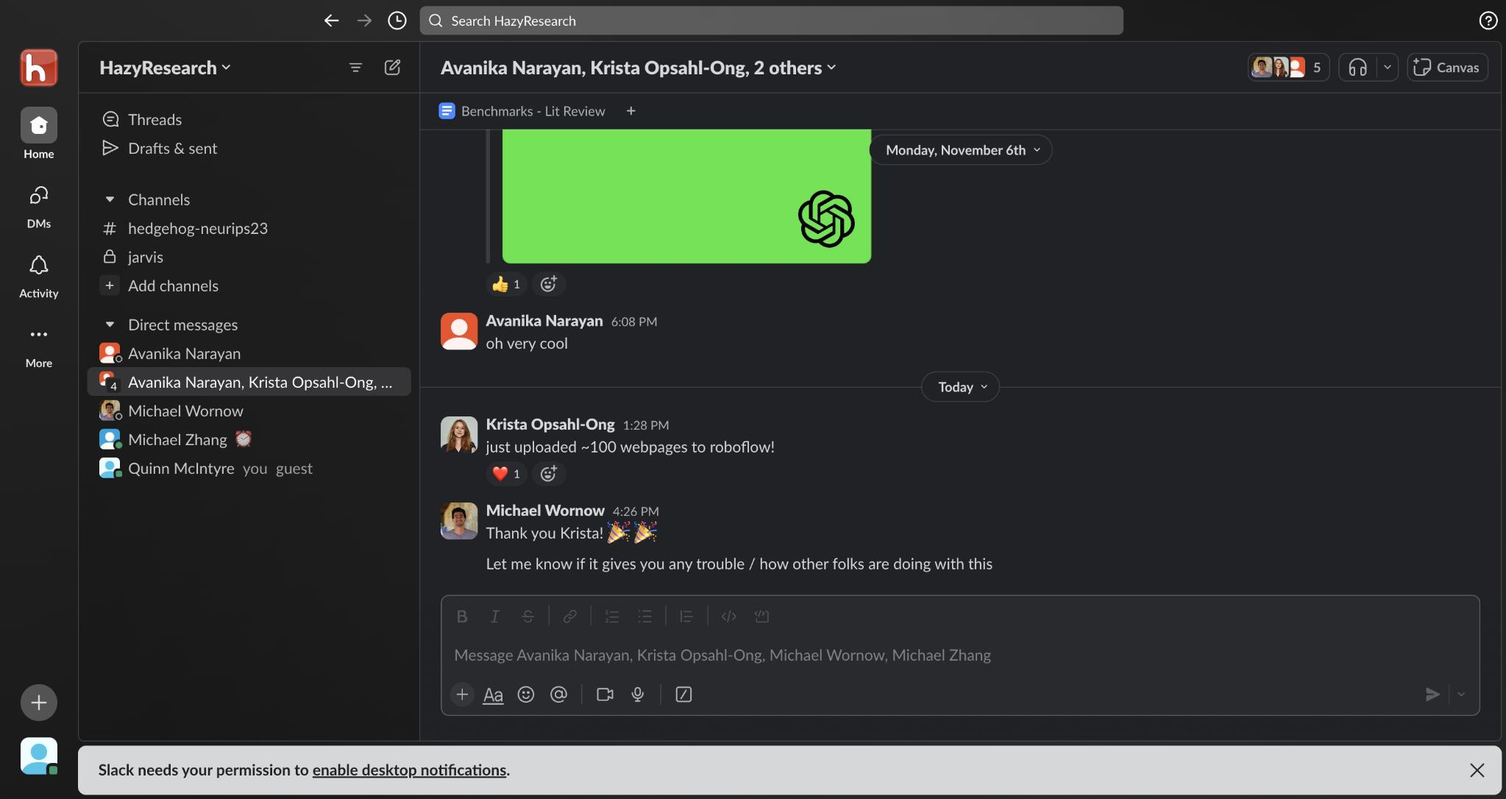webelement: (420, 41, 1500, 739), (420, 357, 1500, 602), (78, 91, 418, 530), (440, 594, 1480, 714), (420, 407, 1500, 493), (420, 494, 1500, 578), (502, 69, 871, 262), (77, 745, 1502, 794), (0, 0, 1505, 40), (420, 304, 1500, 357), (420, 41, 1500, 91), (420, 367, 1500, 407), (441, 673, 1479, 713), (441, 595, 1479, 633), (441, 634, 1479, 672), (486, 271, 1480, 300), (486, 460, 1480, 489), (501, 21, 1088, 61), (419, 5, 1122, 33), (78, 41, 418, 91), (12, 97, 65, 376), (432, 52, 844, 82), (78, 103, 418, 132), (78, 132, 418, 161), (78, 212, 418, 241), (78, 241, 418, 270), (78, 337, 418, 366), (78, 423, 418, 452), (420, 120, 1500, 129), (420, 357, 1500, 366), (78, 184, 418, 212), (78, 309, 418, 337), (78, 395, 418, 423), (86, 270, 410, 298), (0, 683, 77, 798), (486, 543, 1480, 551), (127, 366, 399, 395), (415, 41, 423, 739), (127, 452, 311, 481), (869, 134, 1051, 163), (91, 52, 243, 82), (312, 757, 506, 779), (127, 212, 267, 241), (1488, 133, 1496, 594), (12, 98, 65, 167), (12, 168, 65, 237), (12, 237, 65, 306), (12, 307, 65, 376), (590, 56, 745, 78), (128, 337, 240, 366), (128, 395, 243, 423), (127, 309, 237, 337), (441, 56, 580, 78), (127, 423, 226, 452), (461, 99, 608, 118), (443, 10, 587, 28), (128, 132, 217, 161), (127, 270, 217, 298), (485, 413, 614, 432), (1322, 719, 1472, 735), (247, 371, 372, 390), (1248, 53, 1330, 81), (1407, 53, 1488, 81), (485, 499, 604, 518), (921, 371, 998, 400), (486, 310, 602, 329), (380, 371, 495, 390), (128, 371, 240, 390), (127, 457, 233, 476), (1331, 53, 1399, 81), (503, 371, 602, 390), (127, 184, 189, 212), (128, 103, 181, 132), (440, 312, 477, 349), (440, 502, 477, 539), (1459, 751, 1496, 788), (20, 683, 57, 720), (20, 736, 57, 773), (20, 49, 57, 85), (336, 49, 373, 85), (374, 49, 411, 85), (440, 416, 477, 452), (826, 81, 859, 113), (673, 43, 731, 61), (793, 81, 825, 113), (128, 241, 162, 270), (485, 271, 526, 295), (485, 461, 526, 485), (1340, 54, 1377, 80), (1417, 679, 1449, 707), (530, 271, 565, 295), (530, 461, 565, 485), (447, 601, 476, 629), (480, 601, 509, 629), (513, 601, 542, 629), (555, 601, 584, 629), (597, 601, 626, 629), (630, 601, 659, 629), (672, 601, 701, 629), (714, 601, 743, 629), (746, 601, 775, 629), (478, 679, 507, 707), (511, 679, 540, 707), (543, 679, 572, 707), (669, 679, 698, 707), (590, 679, 618, 707), (623, 679, 651, 707), (1437, 58, 1479, 76), (617, 96, 644, 123), (275, 457, 312, 476), (317, 6, 344, 32), (350, 6, 377, 32), (1475, 6, 1502, 32), (623, 416, 669, 431), (383, 6, 409, 32), (611, 313, 656, 328), (613, 503, 658, 518), (1449, 679, 1473, 707), (1300, 57, 1329, 77), (1488, 520, 1496, 592), (449, 681, 473, 705), (633, 520, 656, 542), (1378, 54, 1397, 80), (606, 520, 628, 542), (242, 457, 267, 476), (42, 760, 62, 780), (491, 275, 508, 291), (491, 465, 508, 481), (235, 430, 251, 446), (438, 102, 454, 118), (715, 45, 730, 62), (110, 350, 125, 365), (110, 436, 125, 451), (110, 465, 125, 480), (110, 408, 125, 422), (510, 275, 520, 291), (510, 465, 520, 481)
